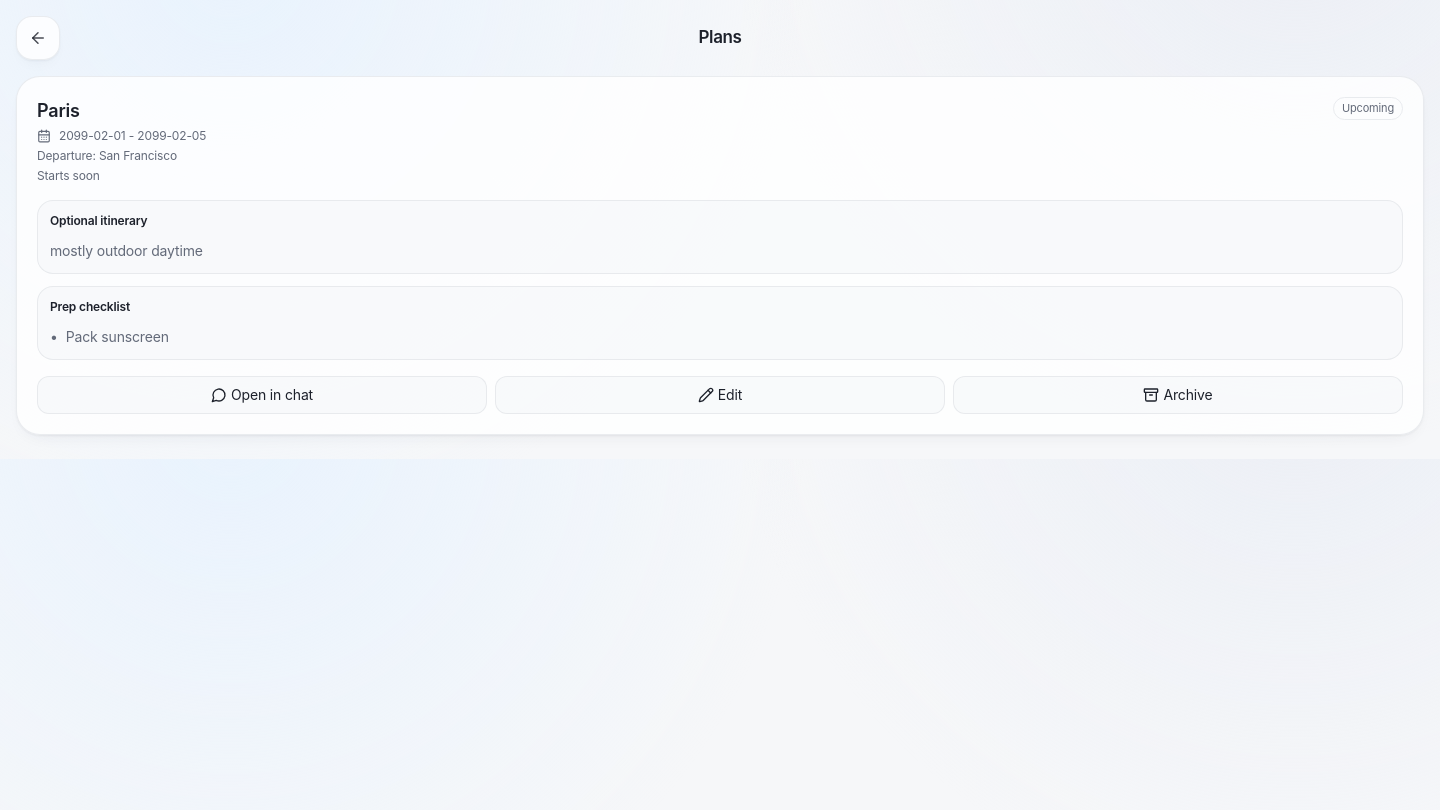
Test: PlanDetails behavior › retries update after destination ambiguity selection
This screenshot has width=1440, height=810.
expect the text "Paris" is shown: met, box [37, 100, 80, 121]
What coordinates should you click on to do the following:
click the button "Edit"
I would click on:
 (720, 395)
Its box is [495, 376, 945, 414].
(page scrolled)
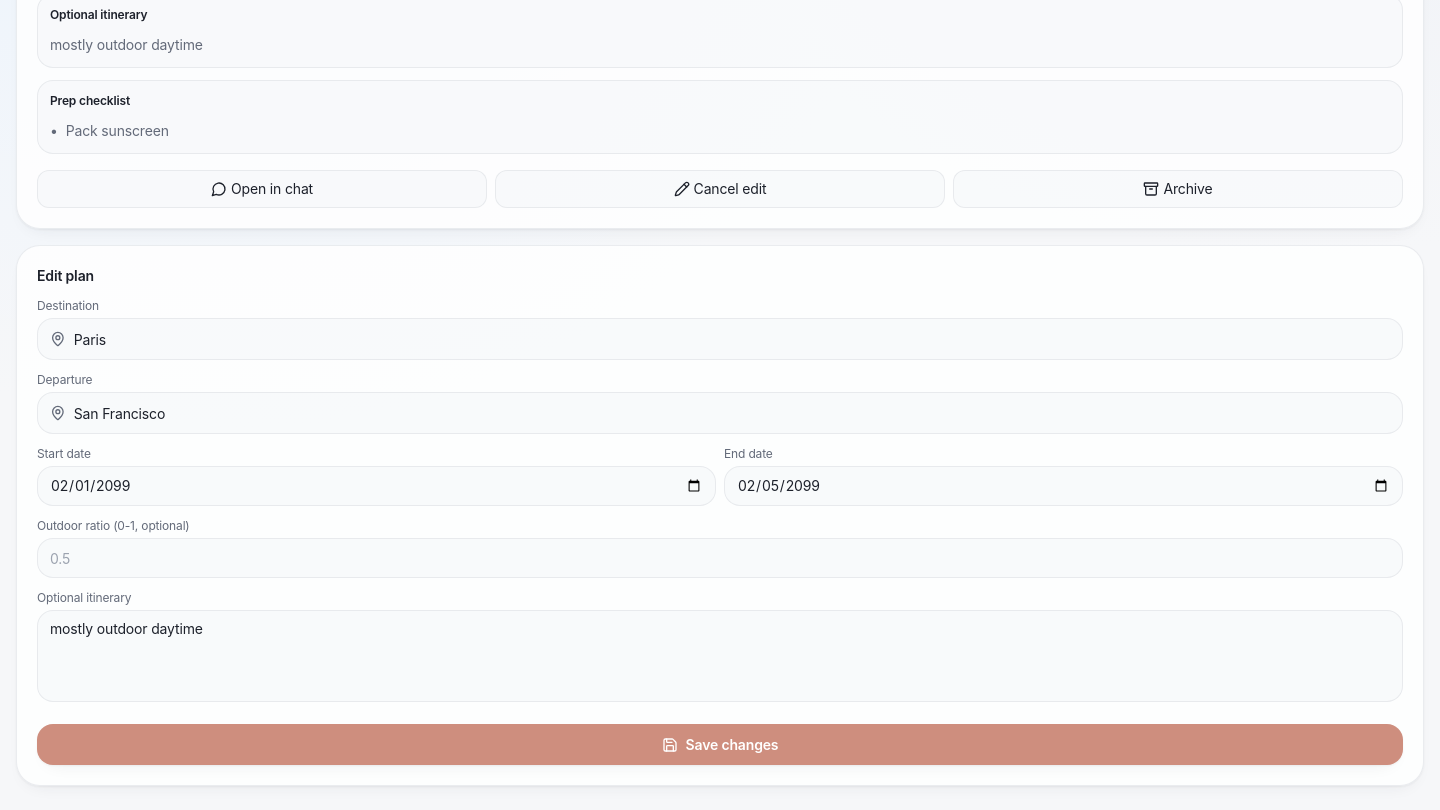
What coordinates should you click on to do the following:
click the button "Save changes"
I would click on:
 (720, 744)
Its box is [37, 724, 1403, 765].
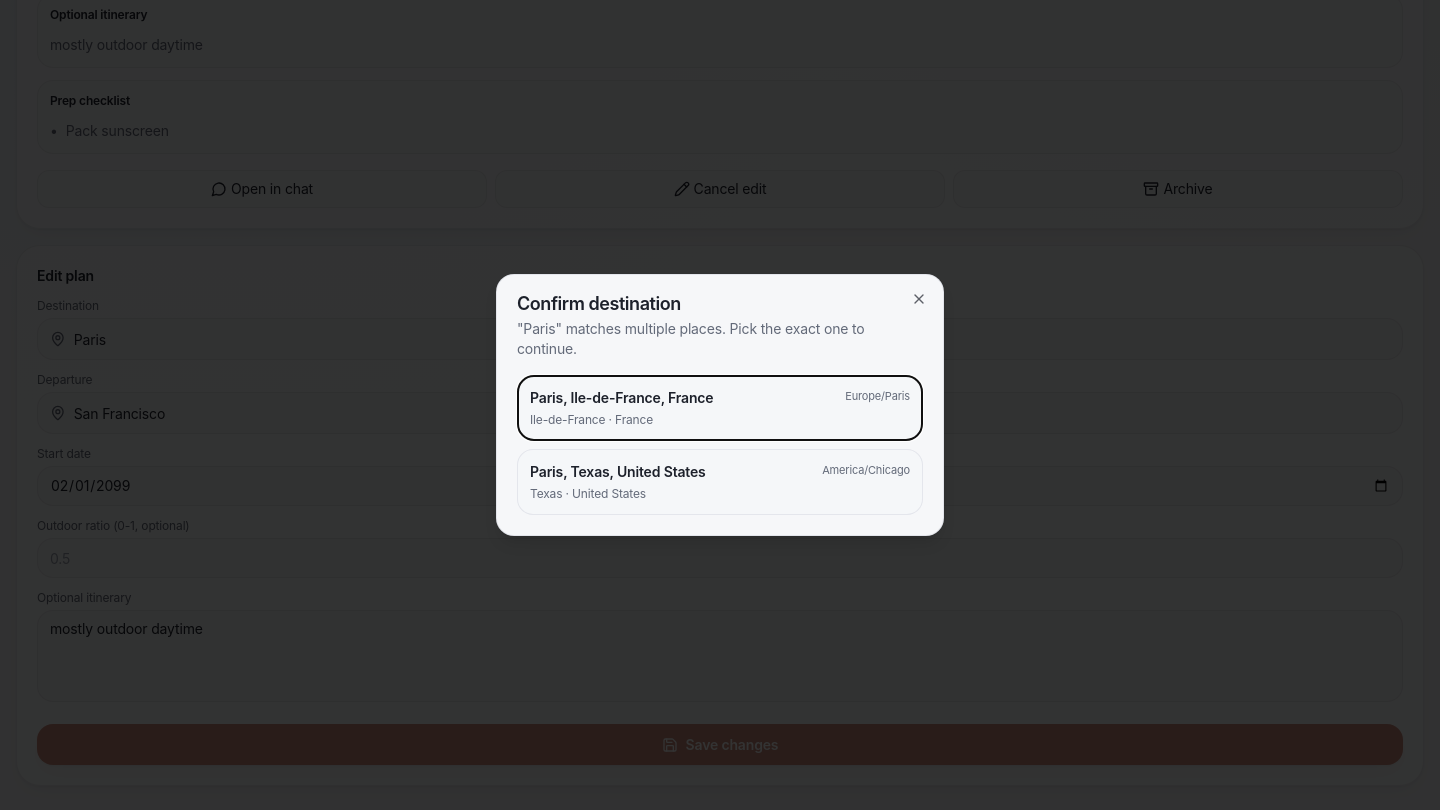
expect the heading "Confirm destination" is shown: met, box [517, 293, 681, 314]
What coordinates should you click on to do the following:
click the button "Paris, Ile-de-France, France"
I would click on:
 (622, 398)
Its box is [517, 375, 923, 441].
(page scrolled)
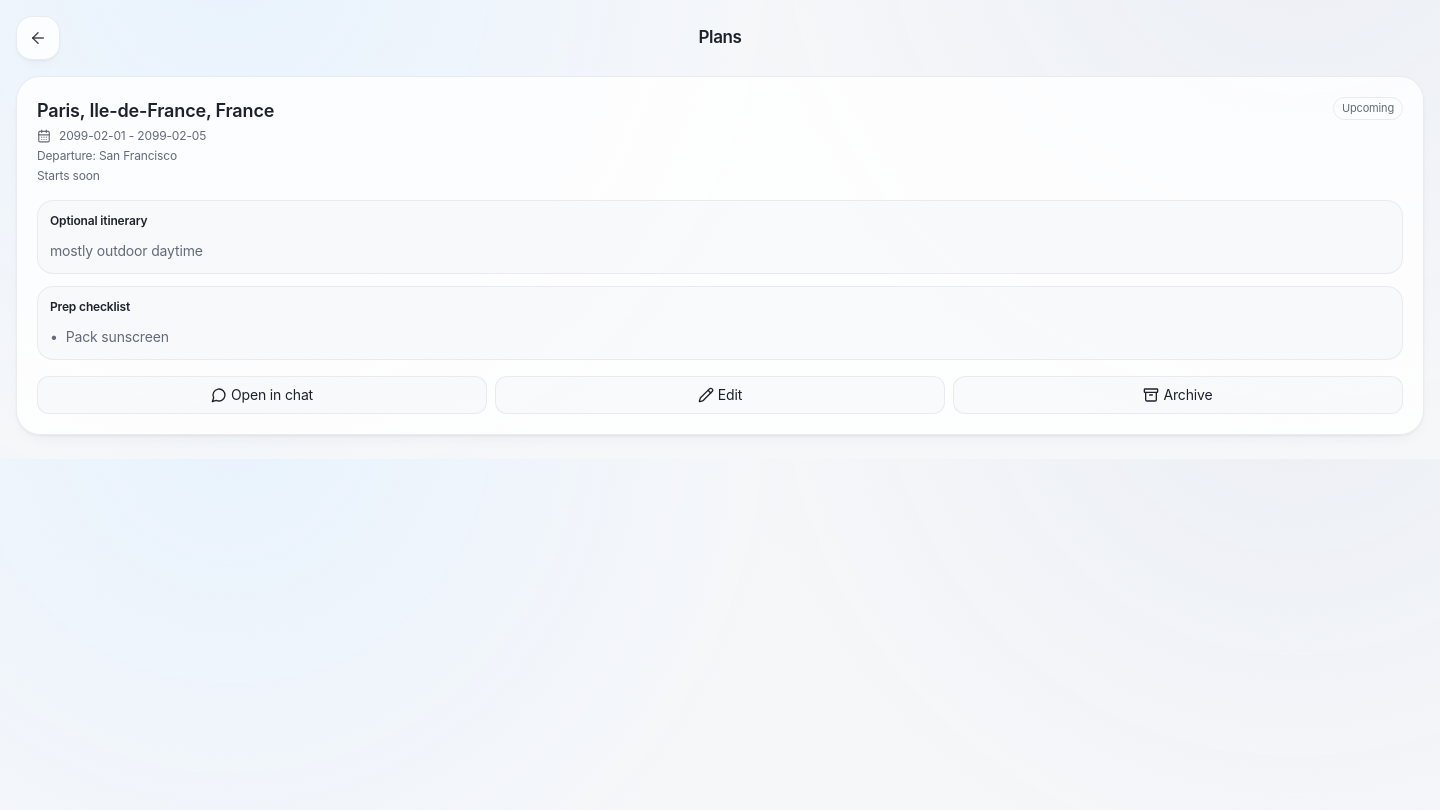
expect the text "Paris, Ile-de-France, France" is shown: met, box [37, 97, 274, 124]
